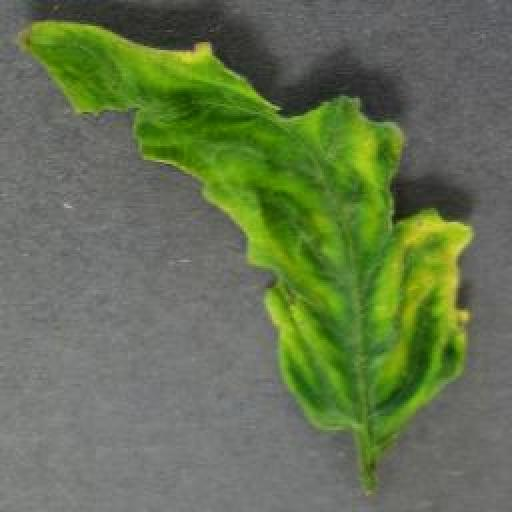disease_tomato: (12, 22, 476, 444)
